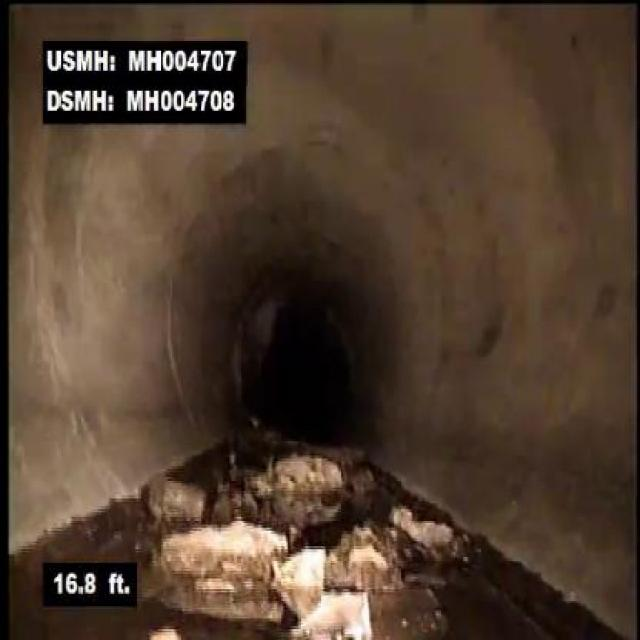Debris: (391, 503, 469, 566), (146, 468, 217, 526)
Obstacle: (165, 522, 332, 602), (276, 544, 382, 638)
